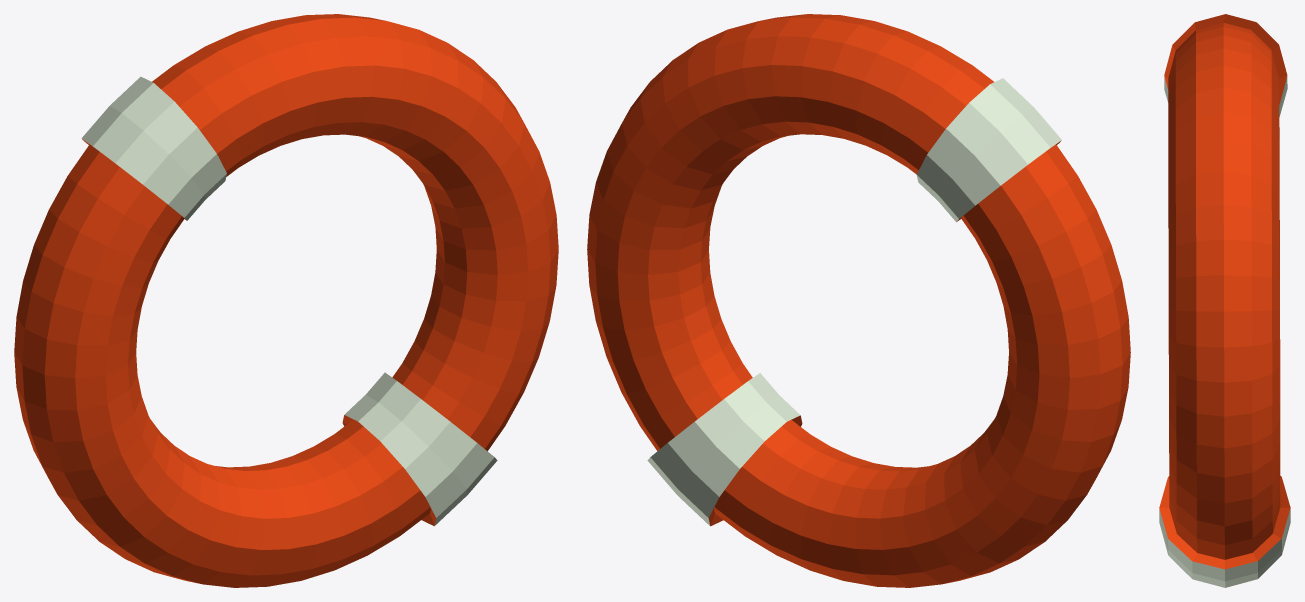
Rendered from salbabida.fbx.
The picture shows the model from 3 angles, left to right: view 1: azimuth 30°, elevation 25°; view 2: azimuth 150°, elevation 25°; view 3: azimuth 270°, elevation 25°; orthographic projection. The views are drawn at different scales.
Parts seen in each view (by area): view 1: Torus; view 2: Torus; view 3: Torus.
Part boxes in pixels (x1,y1,x2,y2): Torus: (14, 14, 558, 587); Torus: (587, 14, 1130, 587); Torus: (1159, 14, 1290, 587).
Bounding box in the file's own units: 250 × 250 × 59.31.
